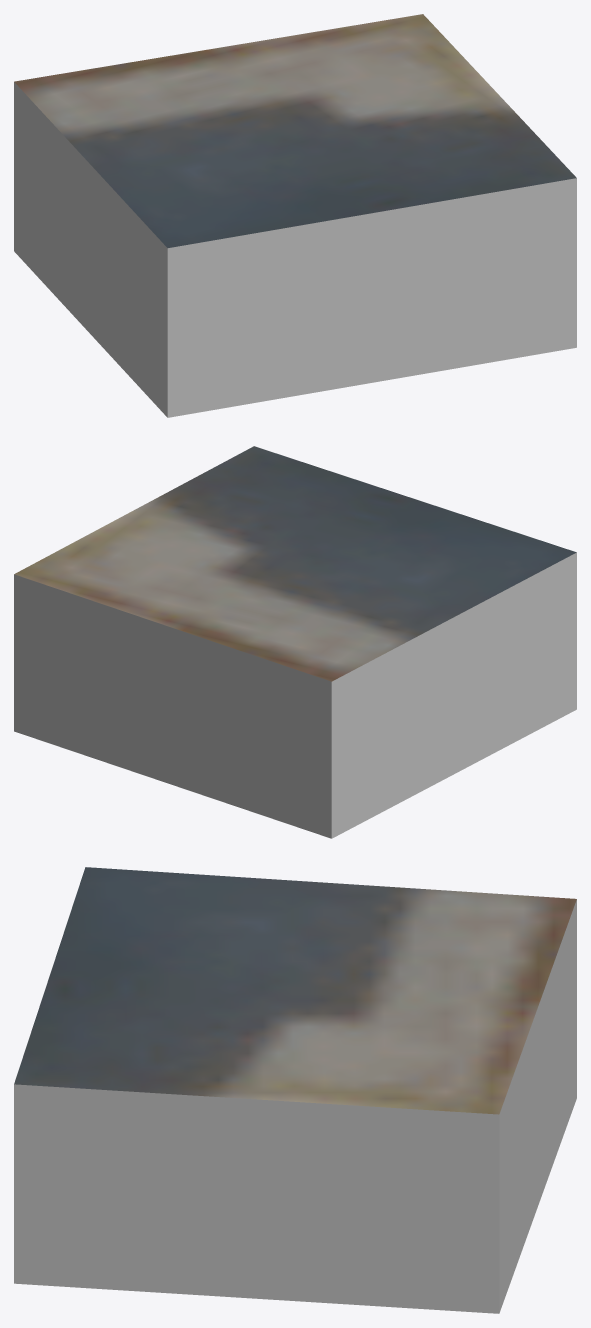
File: DEBW_0010007TxbP.gltf
3 renders of one model, top to bottom at view 1: azimuth 30°, elevation 25°; view 2: azimuth 150°, elevation 25°; view 3: azimuth 270°, elevation 25°, orthographic. The views are drawn at different scales.
Visible parts, largest first — view 1: Z_UP; view 2: Z_UP; view 3: Z_UP.
Boxes of the visible parts, box(x1,y1,x2,y2) form: Z_UP: box(14, 14, 576, 417); Z_UP: box(14, 446, 576, 838); Z_UP: box(14, 867, 576, 1313).
Size of the model in its own units: 7.54 by 2.83 by 7.25.
Materials: 2 (1 with a texture image).
